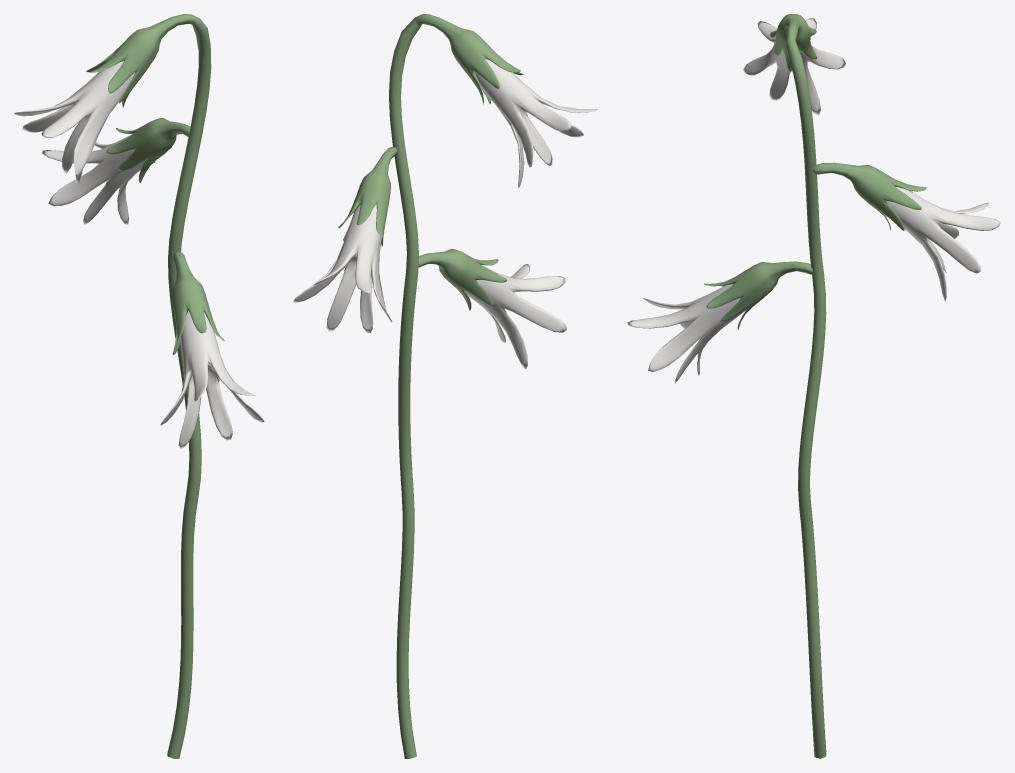
Rendered from 24flowerlobelia.fbx.
3 renders of one model, left to right at view 1: azimuth 30°, elevation 25°; view 2: azimuth 150°, elevation 25°; view 3: azimuth 270°, elevation 25°, orthographic. The views are drawn at different scales.
Parts seen in each view (by area): view 1: BezierCurve, Cylinder.003, Cylinder.001; view 2: BezierCurve, Cylinder.001, Cylinder.003; view 3: BezierCurve, Cylinder.001, Cylinder.003.
Boxes of the visible parts, x1,y1,x2,y2 form: BezierCurve: (14, 14, 211, 758); Cylinder.003: (160, 251, 264, 449); Cylinder.001: (42, 118, 190, 224); BezierCurve: (389, 14, 598, 758); Cylinder.001: (293, 146, 397, 332); Cylinder.003: (418, 248, 566, 369); BezierCurve: (743, 14, 845, 758); Cylinder.001: (813, 162, 1000, 301); Cylinder.003: (627, 261, 813, 383).
Bounding box in the file's own units: 746 × 2689 × 1252.
